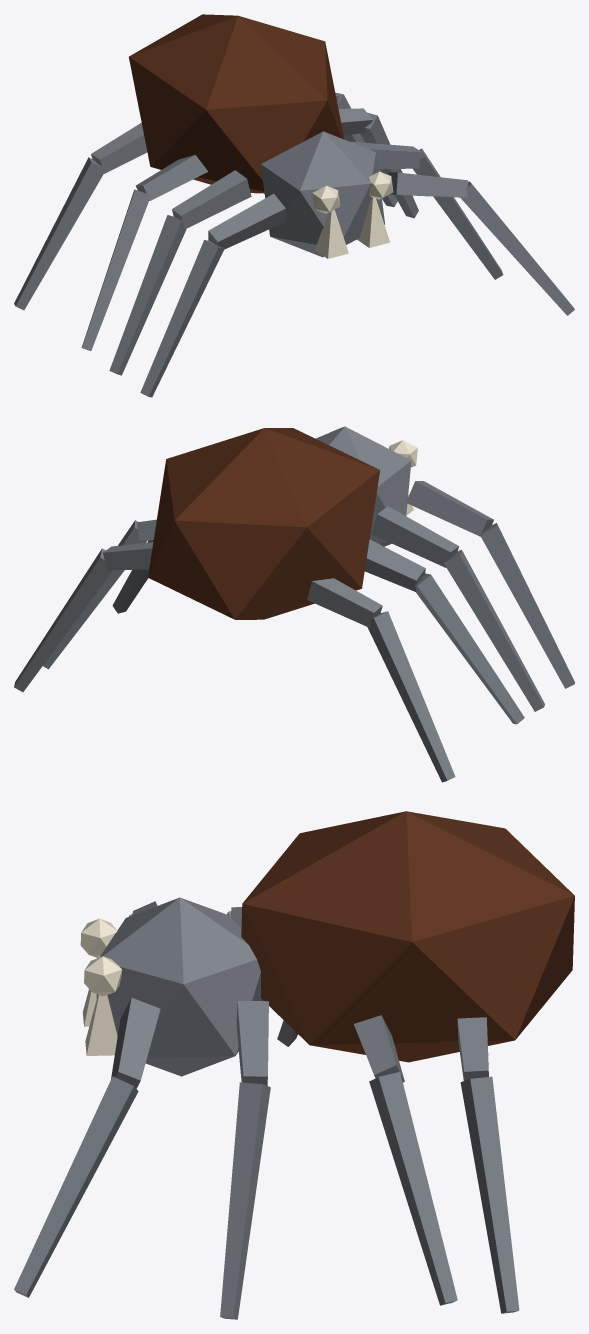
File: npcpose_spider_walk_10.glb
The picture shows the model from 3 angles, top to bottom: view 1: azimuth 30°, elevation 25°; view 2: azimuth 150°, elevation 25°; view 3: azimuth 270°, elevation 25°; orthographic projection. The views are drawn at different scales.
Parts seen in each view (by area): view 1: npcpose; view 2: npcpose; view 3: npcpose.
Boxes of the visible parts, <box> form: npcpose: <box>14,14,574,397</box>; npcpose: <box>14,426,574,782</box>; npcpose: <box>14,811,574,1319</box>.
Bounding box in the file's own units: 1.33 × 0.8424 × 1.14.
